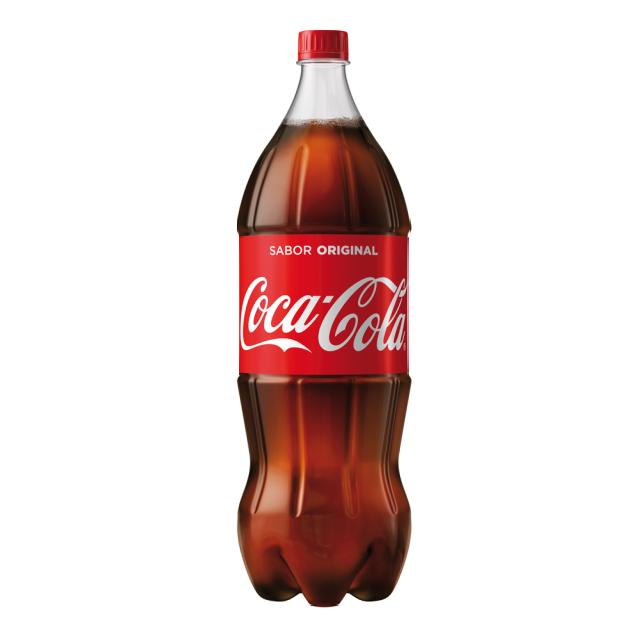bottom: (239, 453, 411, 605)
label: (240, 235, 408, 375)
neck: (237, 31, 410, 237)
